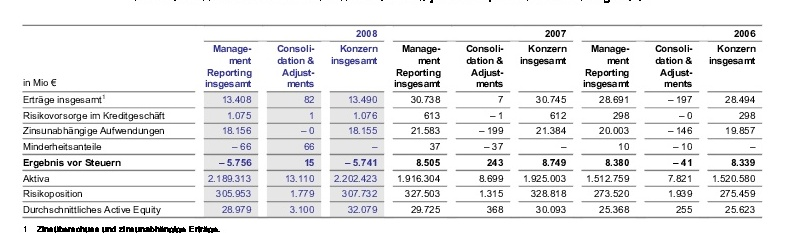table: (0, 0, 785, 233)
